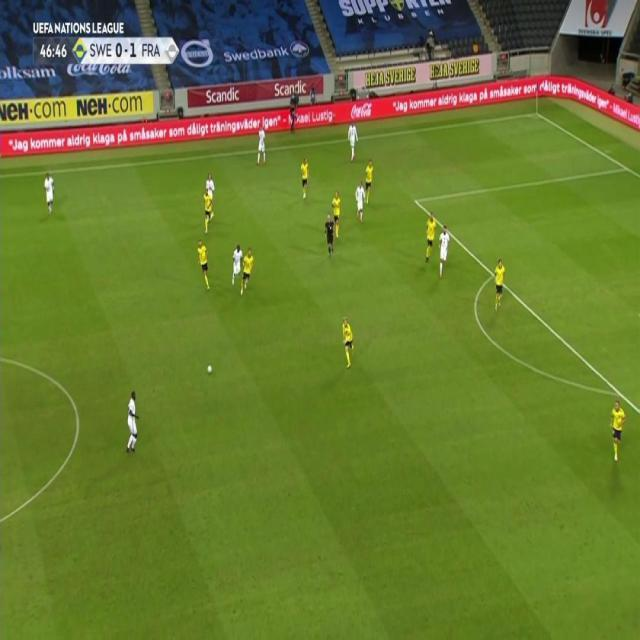ball: (207, 363, 213, 376)
player: (609, 398, 628, 464), (124, 390, 141, 455), (238, 248, 257, 298), (196, 237, 212, 292), (423, 210, 439, 265), (340, 316, 355, 371), (437, 224, 451, 281), (493, 256, 507, 313), (202, 177, 215, 234), (330, 189, 343, 239), (230, 244, 244, 288), (43, 171, 56, 216), (364, 156, 376, 204), (347, 118, 360, 162), (300, 156, 311, 202), (354, 181, 366, 223), (256, 126, 267, 165), (203, 173, 216, 205)
referee: (323, 212, 335, 261)
